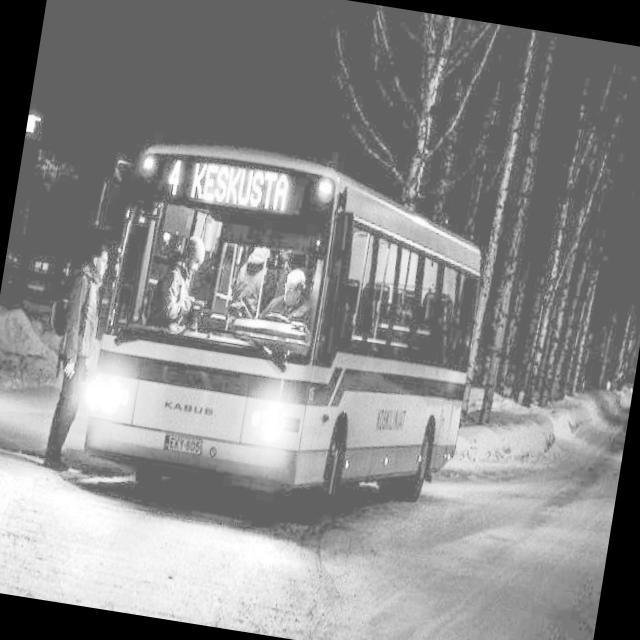Bus: (89, 91, 520, 554)
